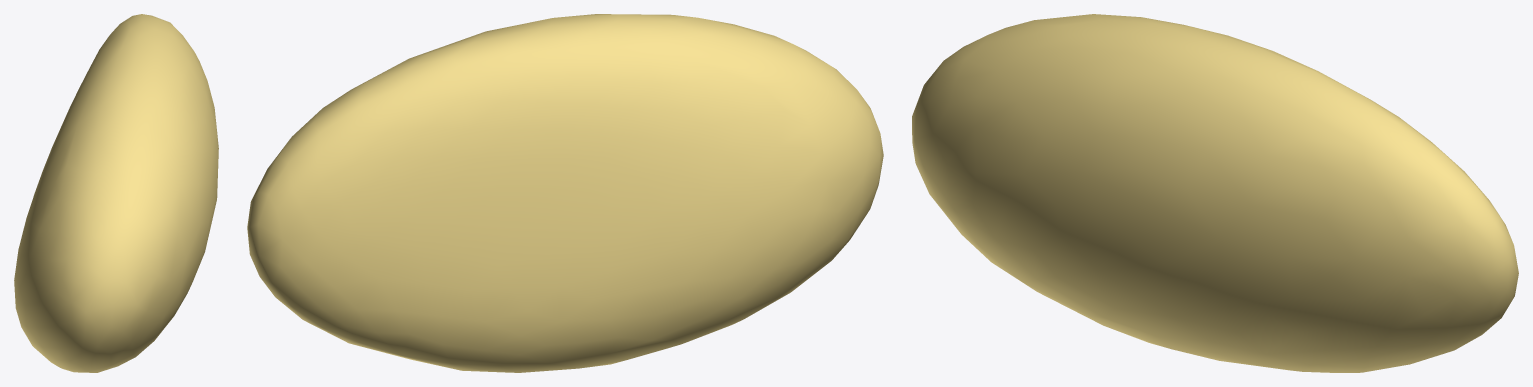
File: fma73508_mm3562.glb
3 renders of one model, left to right at view 1: azimuth 30°, elevation 25°; view 2: azimuth 150°, elevation 25°; view 3: azimuth 270°, elevation 25°, orthographic. The views are drawn at different scales.
Parts seen in each view (by area): view 1: FMA73508_MM3562; view 2: FMA73508_MM3562; view 3: FMA73508_MM3562.
Boxes of the visible parts, x1,y1,x2,y2 form: FMA73508_MM3562: (14,14,218,372); FMA73508_MM3562: (247,14,883,372); FMA73508_MM3562: (912,14,1518,372).
Bounding box in the file's own units: 0.00226 × 0.00177 × 0.00295.
